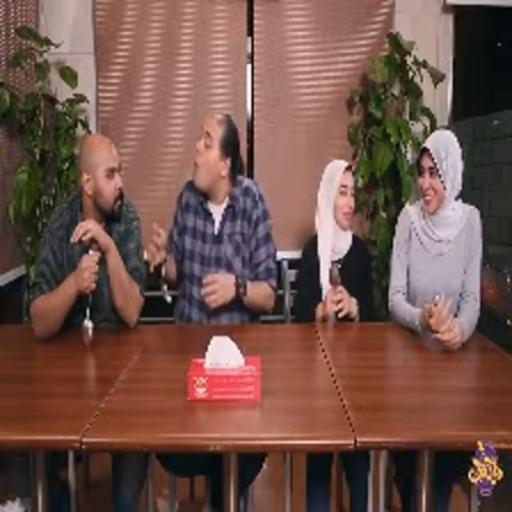nao-violencia: (19, 104, 284, 332), (288, 123, 493, 360)
